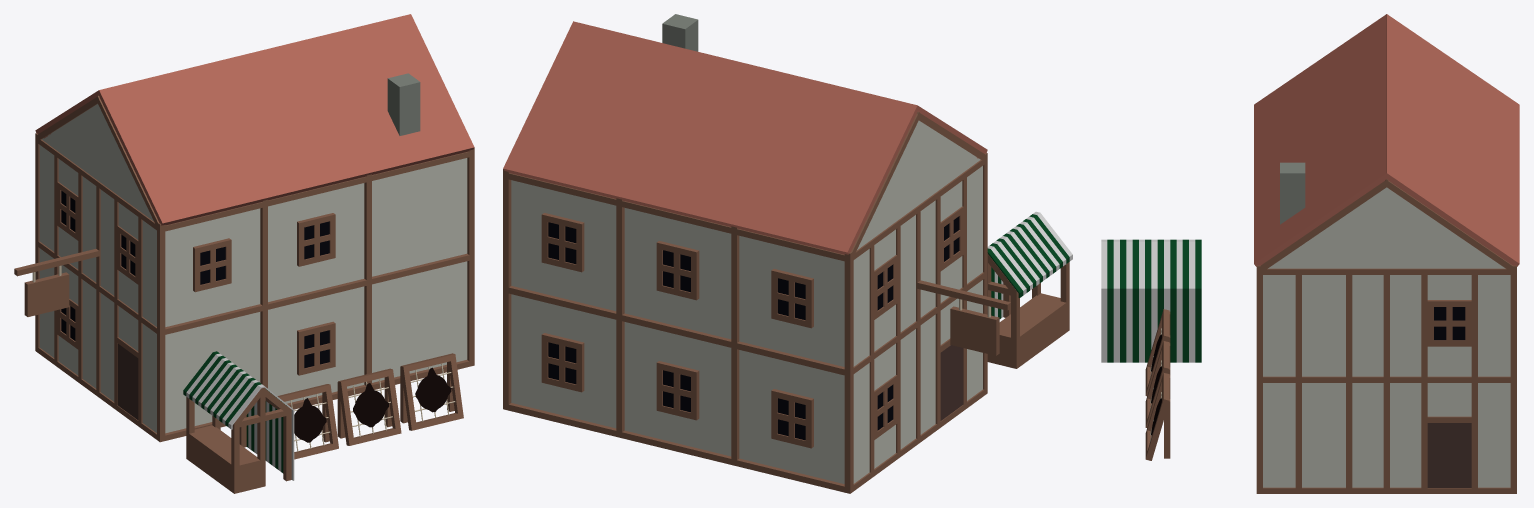
File: timberframedtanner_green_white.obj
3 views of the same model, side by side, from view 1: azimuth 30°, elevation 25°; view 2: azimuth 150°, elevation 25°; view 3: azimuth 270°, elevation 25° (orthographic). The views are drawn at different scales.
Parts seen in each view (by area): view 1: Cube.005, Cube.007_Cube.011, Cylinder.003_Cylinder.001, Cylinder.001_Cylinder.008, Cube.011_Cube.015, Cylinder.004_Cylinder.009, Cube.018_Cube.016, Cube.026_Cube.019, Cube.006_Cube.010, Cube.001_Cube.058, Cube.056_Cube.081, Cube.013_Cube.080 (+27 smaller); view 2: Cube.005, Cube.007_Cube.011, Cube.022_Cube.025, Cube.023_Cube.026, Cube.021_Cube.024, Cube.028, Cube.019_Cube.022, Cube.017_Cube.021, Cube.014_Cube.018, Cube.008, Cube.015_Cube.020, Cube.020_Cube.023 (+23 smaller); view 3: Cube.005, Cube.007_Cube.011, Cube.147_Cube.153, Cube.003, Cube.033, Cube.016_Cube.013, Cube.032, Cube.031, Cube.012_Cube.017, Cube.027, Cube.034, Cube.047_Cube.049 (+9 smaller).
Part boxes in pixels (left/top/right/bottom): Cube.005: left=39, top=104, right=467, bottom=433; Cube.007_Cube.011: left=35, top=14, right=474, bottom=225; Cylinder.003_Cylinder.001: left=337, top=368, right=401, bottom=445; Cylinder.001_Cylinder.008: left=400, top=353, right=463, bottom=430; Cube.011_Cube.015: left=161, top=253, right=473, bottom=334; Cylinder.004_Cylinder.009: left=277, top=384, right=338, bottom=459; Cube.018_Cube.016: left=161, top=151, right=473, bottom=231; Cube.026_Cube.019: left=157, top=223, right=165, bottom=442; Cube.006_Cube.010: left=387, top=73, right=420, bottom=135; Cube.001_Cube.058: left=297, top=321, right=335, bottom=375; Cube.056_Cube.081: left=193, top=238, right=231, bottom=292; Cube.013_Cube.080: left=297, top=213, right=335, bottom=266; Cube.005: left=511, top=120, right=982, bottom=483; Cube.007_Cube.011: left=503, top=21, right=987, bottom=254; Cube.022_Cube.025: left=504, top=286, right=848, bottom=375; Cube.023_Cube.026: left=505, top=403, right=848, bottom=493; Cube.021_Cube.024: left=505, top=173, right=848, bottom=261; Cube.028: left=844, top=252, right=853, bottom=493; Cube.019_Cube.022: left=656, top=361, right=699, bottom=420; Cube.017_Cube.021: left=541, top=333, right=584, bottom=392; Cube.014_Cube.018: left=656, top=241, right=699, bottom=300; Cube.008: left=541, top=213, right=584, bottom=272; Cube.015_Cube.020: left=771, top=269, right=813, bottom=328; Cube.020_Cube.023: left=771, top=389, right=813, bottom=448; Cube.005: left=1263, top=187, right=1510, bottom=487; Cube.007_Cube.011: left=1254, top=14, right=1519, bottom=266; Cube.147_Cube.153: left=1101, top=288, right=1201, bottom=362; Cube.003: left=1427, top=423, right=1471, bottom=487; Cube.033: left=1427, top=300, right=1471, bottom=346; Cube.016_Cube.013: left=1261, top=376, right=1511, bottom=382; Cube.032: left=1261, top=268, right=1511, bottom=274; Cube.031: left=1261, top=487, right=1512, bottom=493; Cube.012_Cube.017: left=1256, top=265, right=1262, bottom=493; Cube.027: left=1510, top=265, right=1516, bottom=493; Cube.034: left=1383, top=268, right=1389, bottom=490; Cube.047_Cube.049: left=1295, top=268, right=1301, bottom=490.
Size of the model in its own units: 15.3 by 11.25 by 13.34.
